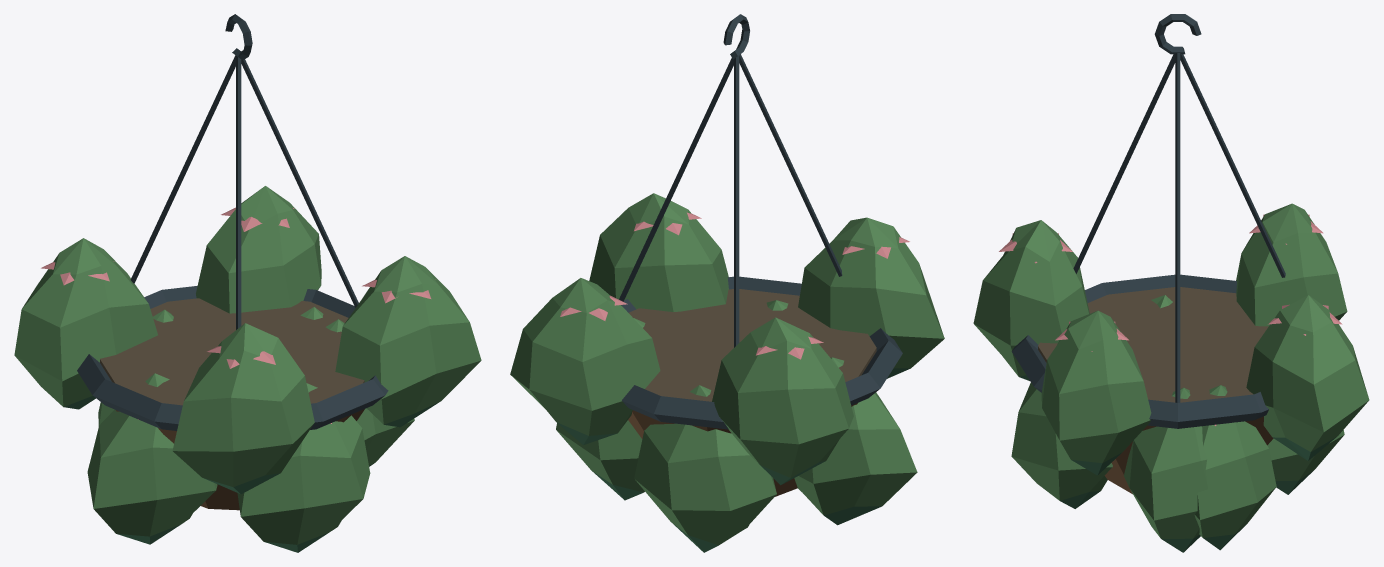
The model's file is b08_hanging_petunia_basket.glb.
The picture shows the model from 3 angles, left to right: view 1: azimuth 30°, elevation 25°; view 2: azimuth 150°, elevation 25°; view 3: azimuth 270°, elevation 25°; orthographic projection.
Visible parts, largest first — view 1: b08_hanging_petunia_basket; view 2: b08_hanging_petunia_basket; view 3: b08_hanging_petunia_basket.
Part boxes in pixels (left/top/right/bottom): b08_hanging_petunia_basket: left=14, top=14, right=481, bottom=552; b08_hanging_petunia_basket: left=510, top=14, right=944, bottom=552; b08_hanging_petunia_basket: left=973, top=14, right=1369, bottom=552.
Size of the model in its own units: 0.6991 by 0.9486 by 0.692.
